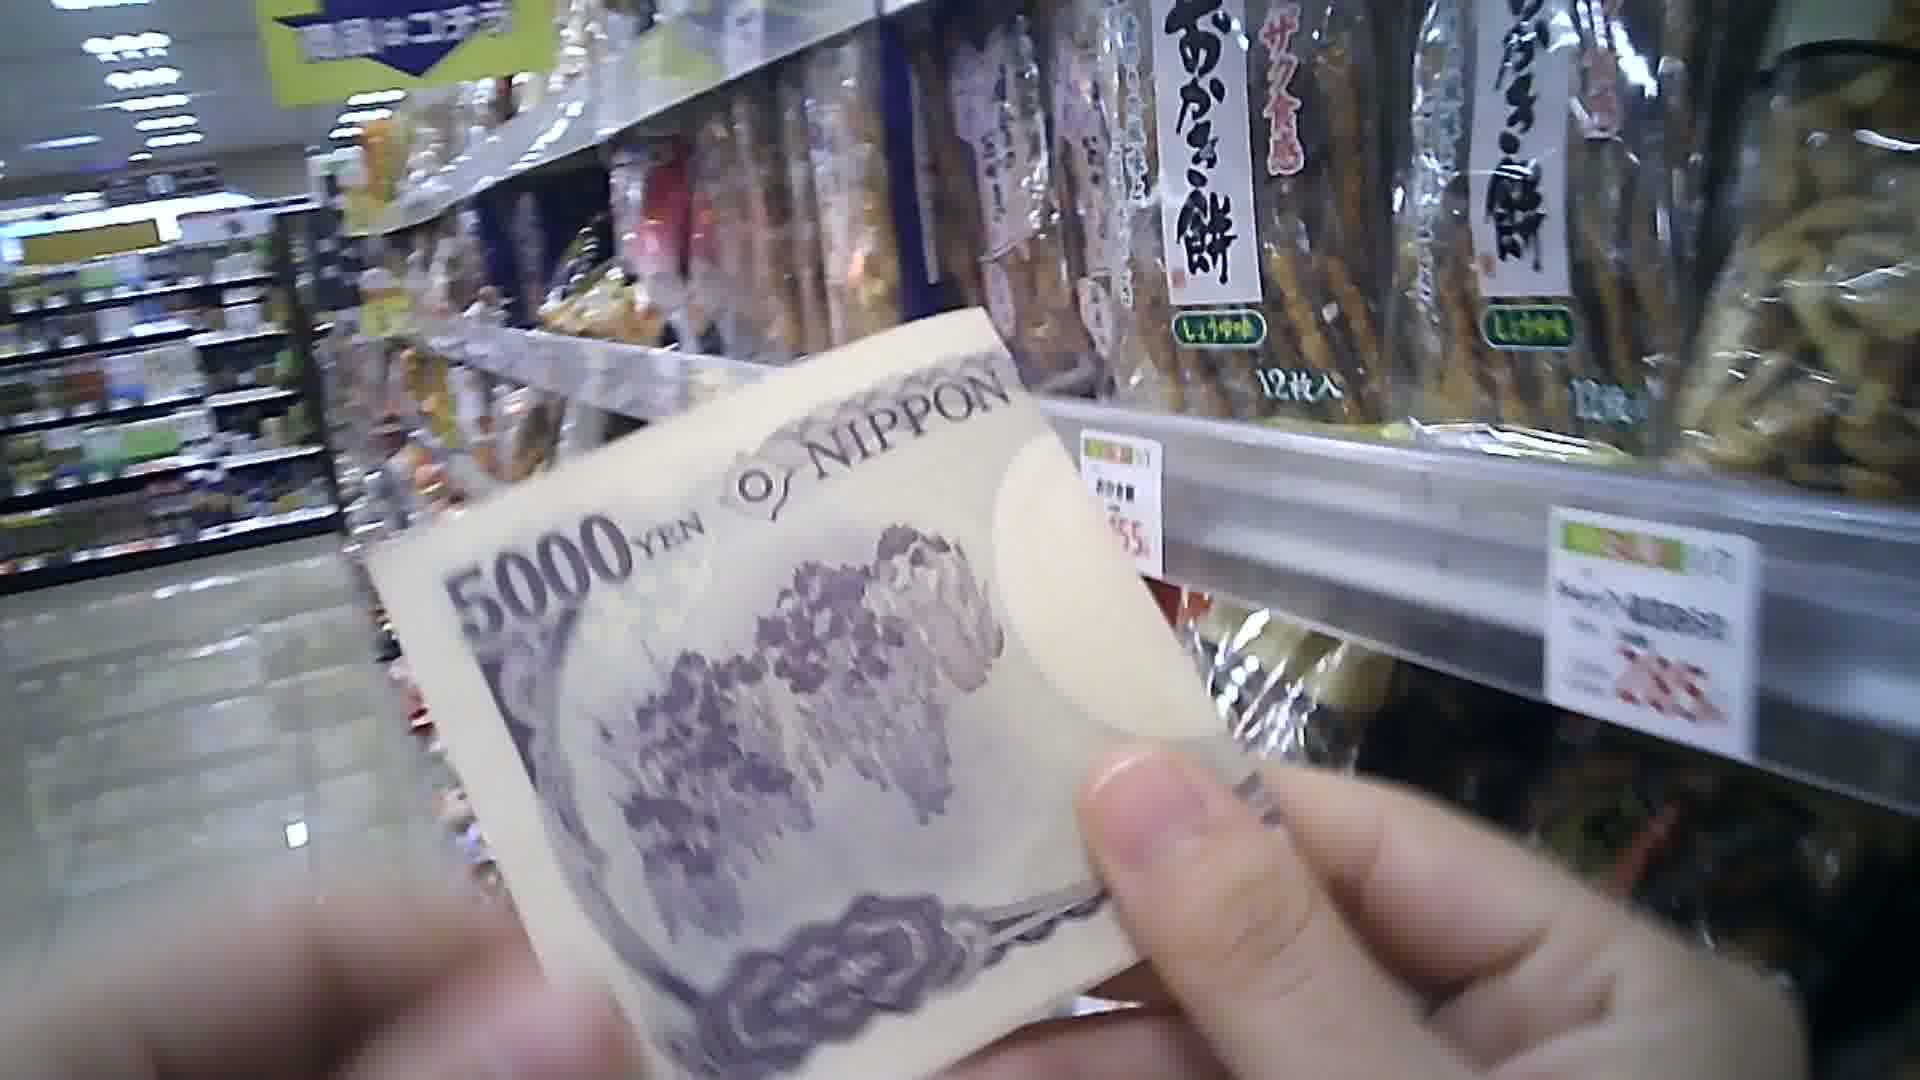5,000 Yen: (348, 301, 1329, 1075)
